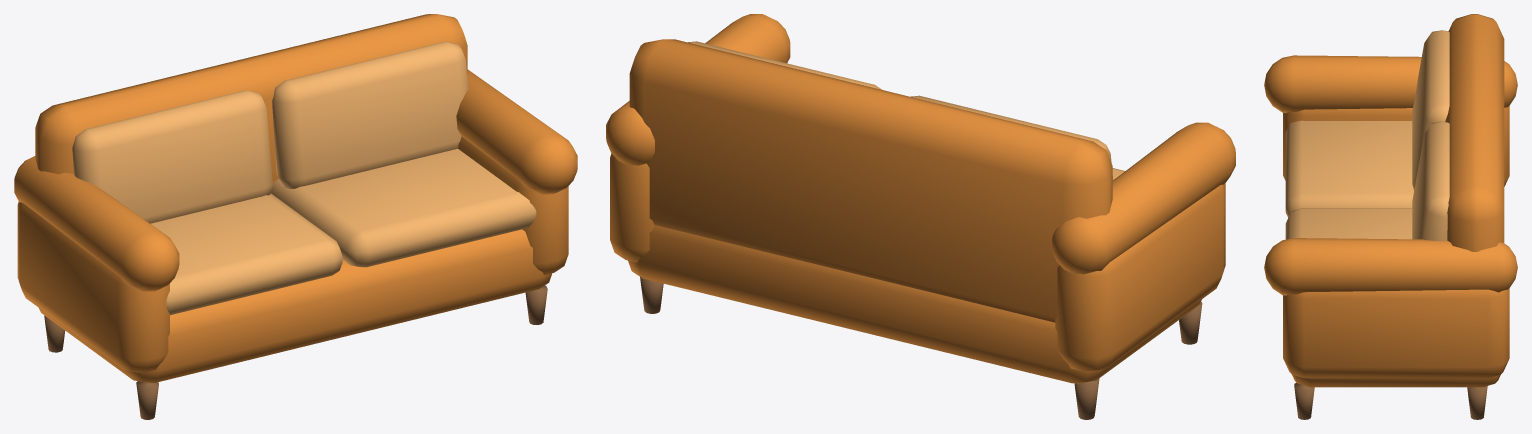
Rendered from sofa.glb.
The picture shows the model from 3 angles, left to right: view 1: azimuth 30°, elevation 25°; view 2: azimuth 150°, elevation 25°; view 3: azimuth 270°, elevation 25°; orthographic projection. The views are drawn at different scales.
Parts seen in each view (by area): view 1: sofa.001; view 2: sofa.001; view 3: sofa.001.
Part boxes in pixels (x1=…): sofa.001: x1=14, y1=14, x2=577, y2=419; sofa.001: x1=606, y1=14, x2=1235, y2=419; sofa.001: x1=1264, y1=14, x2=1517, y2=419.
Bounding box in the file's own units: 1.81 × 0.93 × 0.94.
